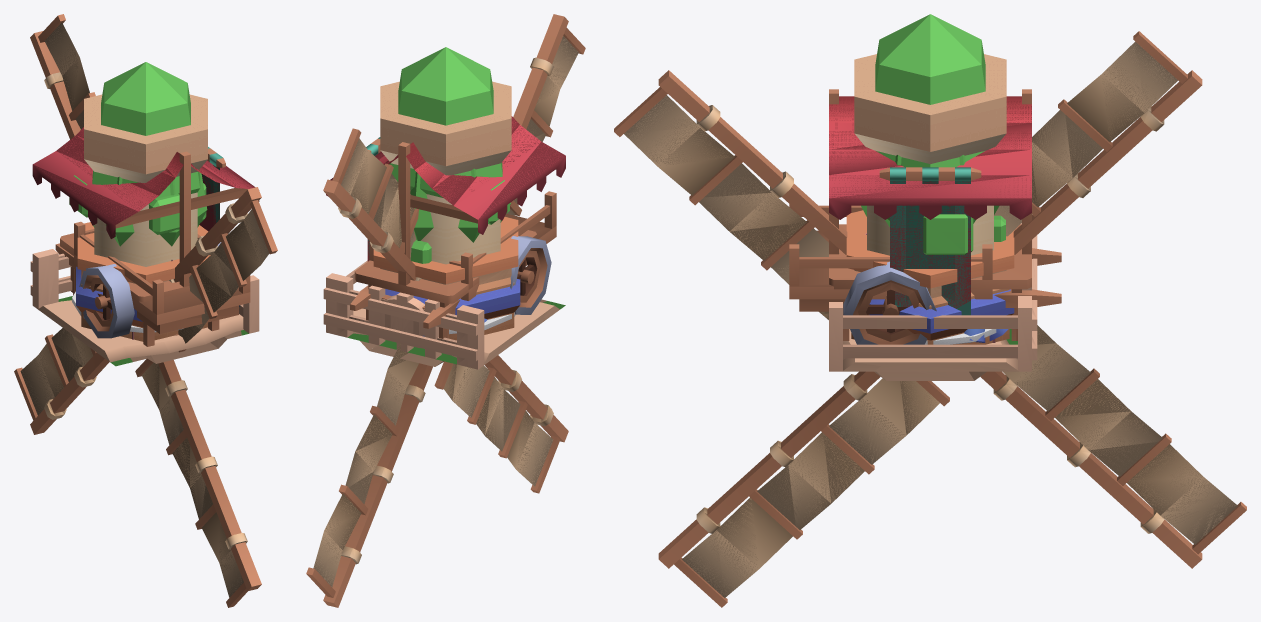
Rendered from valley.glb.
The picture shows the model from 3 angles, left to right: view 1: azimuth 30°, elevation 25°; view 2: azimuth 150°, elevation 25°; view 3: azimuth 270°, elevation 25°; orthographic projection. The views are drawn at different scales.
Visible parts, largest first — view 1: windmill.001, stall-red.001, tower-hexagon-base.001, tree_default.001, cart.001, crops_dirtDoubleRow.001, Group.001, fence_corner.001, tower-hexagon-mid.001, tree_detailed.001, ground_pathBend.001, tree_oak.001 (+5 smaller); view 2: windmill.001, stall-red.001, tower-hexagon-base.001, tree_default.001, fence_planks.001, cart.001, tower-hexagon-mid.001, Group.001, tower-hexagon-roof.001, fence_corner.001, fence_gate.001, tree_oak.001 (+6 smaller); view 3: windmill.001, stall-red.001, tower-hexagon-base.001, tree_default.001, fence_corner.001, banner-green.001, cart.001, Group, banner-red.001, tower-hexagon-mid.001, tree_detailed.001, tower-hexagon-roof.001 (+3 smaller).
Part boxes in pixels (x1,y1,x2,y2): windmill.001: (14, 14, 277, 607); stall-red.001: (32, 127, 259, 346); tower-hexagon-base.001: (81, 94, 207, 341); tree_default.001: (92, 62, 200, 204); cart.001: (55, 221, 250, 333); crops_dirtDoubleRow.001: (38, 300, 243, 362); Group.001: (79, 264, 134, 338); fence_corner.001: (32, 251, 259, 333); tower-hexagon-mid.001: (77, 222, 210, 284); tree_detailed.001: (69, 175, 206, 234); ground_pathBend.001: (58, 296, 248, 366); tree_oak.001: (93, 173, 207, 246); windmill.001: (306, 14, 585, 607); stall-red.001: (326, 116, 565, 338); tower-hexagon-base.001: (380, 81, 514, 340); tree_default.001: (389, 47, 502, 197); fence_planks.001: (323, 276, 477, 366); cart.001: (350, 191, 556, 338); tower-hexagon-mid.001: (373, 217, 518, 284); Group.001: (510, 236, 551, 314); tower-hexagon-roof.001: (385, 279, 520, 318); fence_corner.001: (326, 260, 484, 369); fence_gate.001: (326, 274, 456, 359); tree_oak.001: (410, 168, 510, 242); windmill.001: (614, 31, 1246, 607); stall-red.001: (829, 89, 1031, 340); tower-hexagon-base.001: (851, 54, 1009, 344); tree_default.001: (875, 14, 985, 167); fence_corner.001: (829, 223, 1031, 371); banner-green.001: (879, 167, 981, 315); cart.001: (789, 204, 1061, 340); Group: (843, 261, 936, 344); banner-red.001: (890, 181, 970, 308); tower-hexagon-mid.001: (846, 210, 1014, 298); tree_detailed.001: (923, 214, 1005, 254); tower-hexagon-roof.001: (869, 289, 1014, 340).
Size of the model in its own units: 1 by 3.21 by 3.11.
22 materials, 4 textured.
